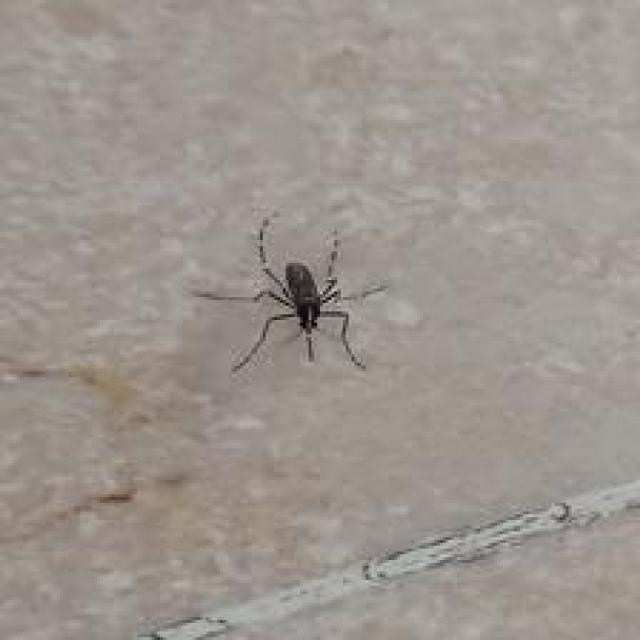Aedes albopictus: (192, 212, 388, 374)
